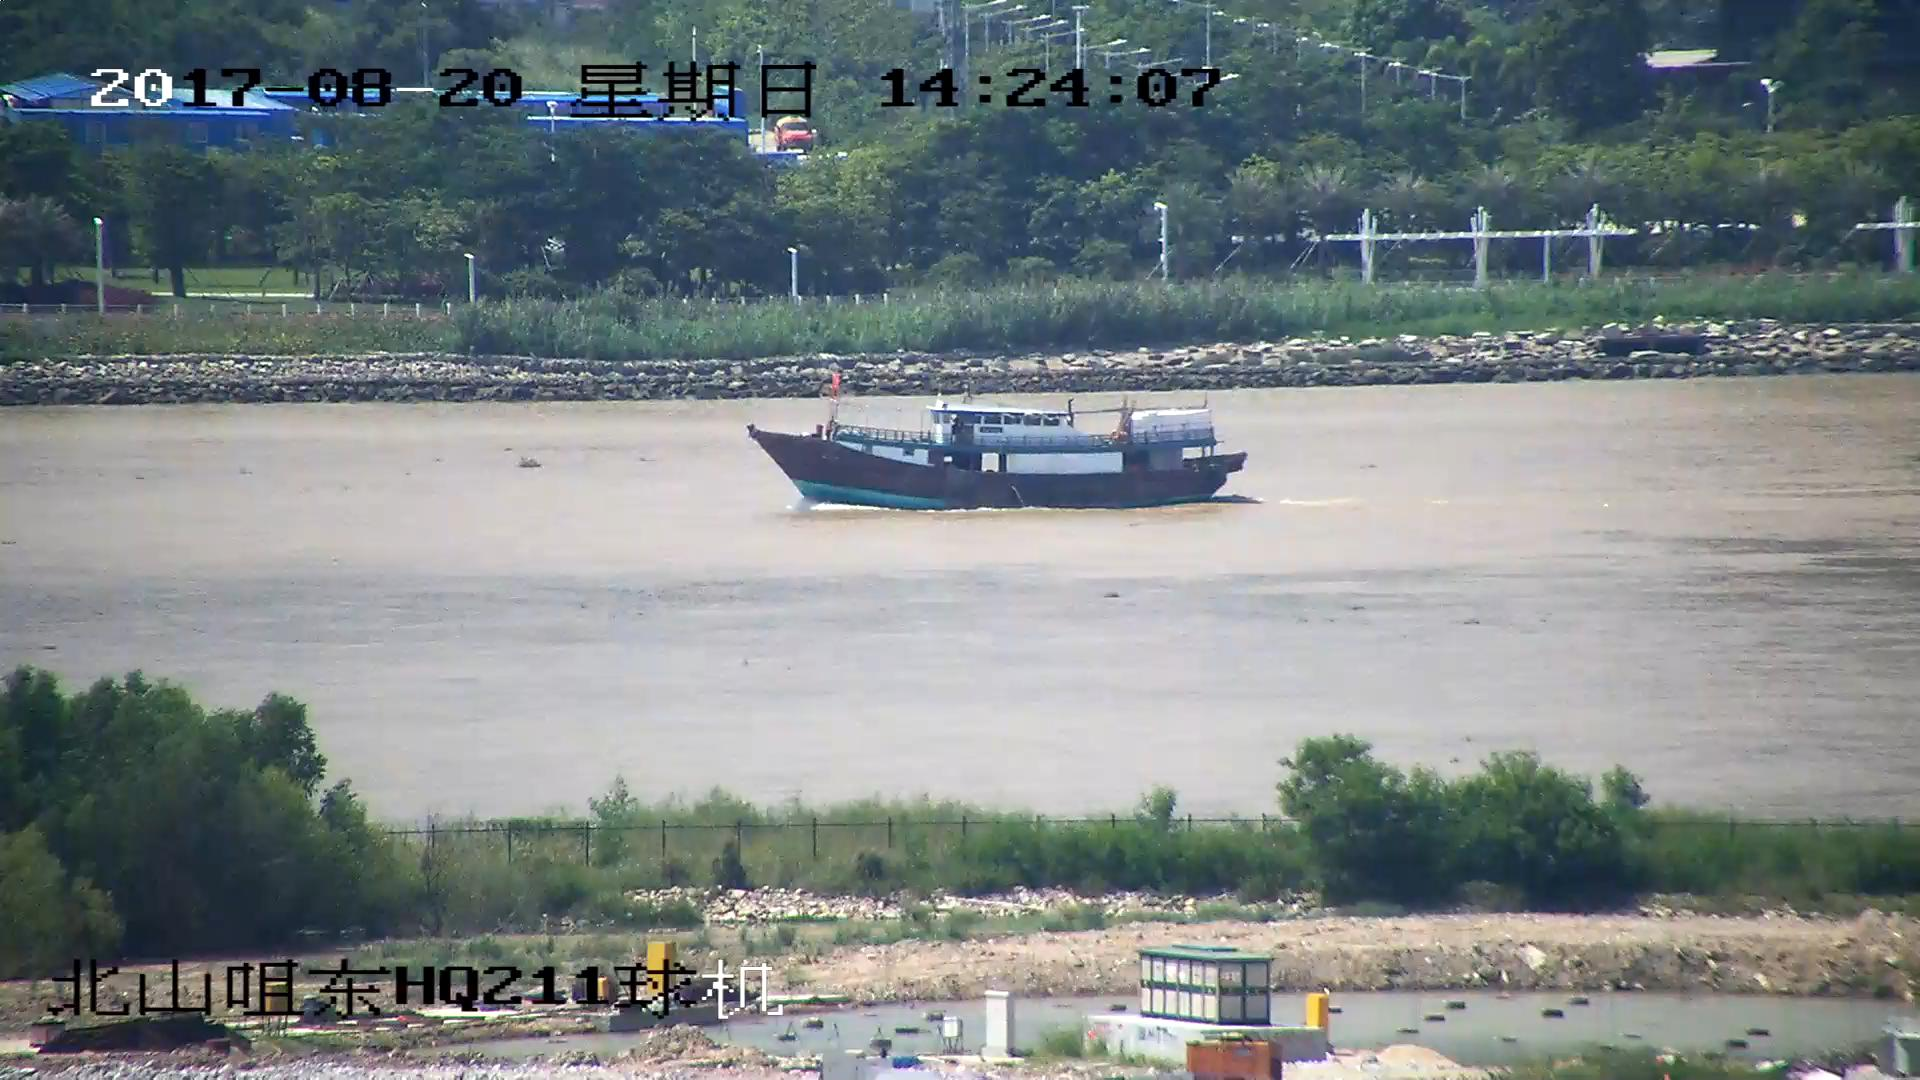fishing boat: (748, 395, 1251, 509)
